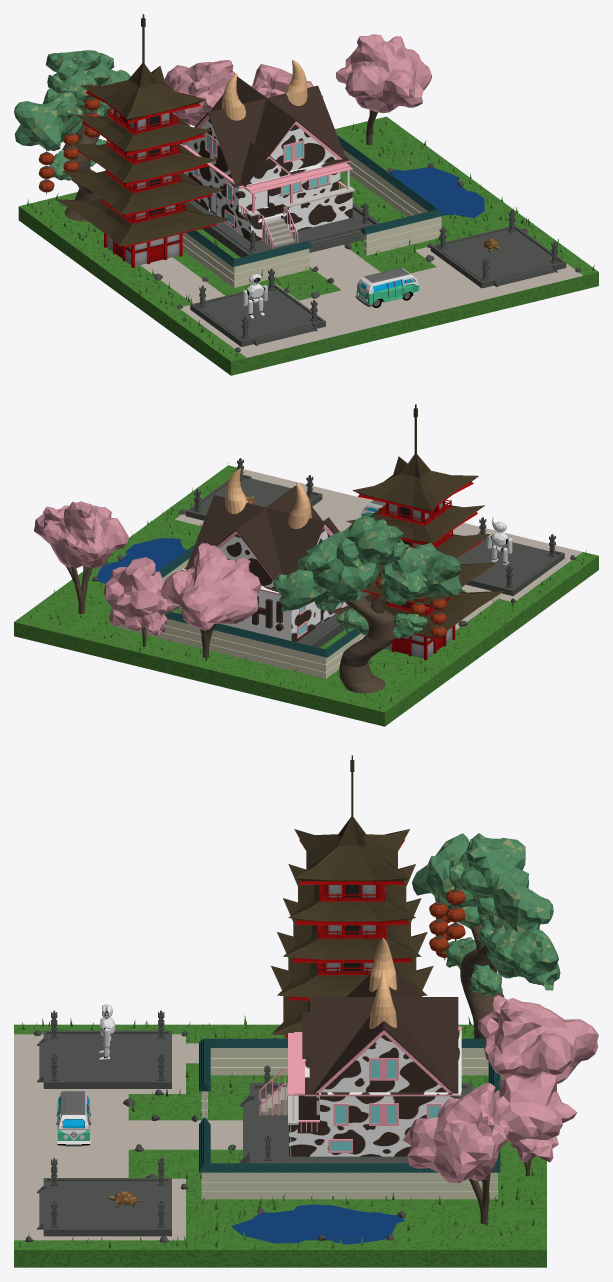
3 views of the same model, one above another, from view 1: azimuth 30°, elevation 25°; view 2: azimuth 150°, elevation 25°; view 3: azimuth 270°, elevation 25° (orthographic). The views are drawn at different scales.
Visible parts, largest first — view 1: Cube.005, Cube.1242, VEHICLES_VAN, OBJRANDOM_PLATZEEBOT; view 2: Cube.005, Cube.1242, OBJRANDOM_PLATZEEBOT; view 3: Cube.005, Cube.1242, VEHICLES_VAN.
Boxes of the visible parts, x1=… form: Cube.005: x1=14, y1=14, x2=598, y2=375; Cube.1242: x1=179, y1=59, x2=355, y2=248; VEHICLES_VAN: x1=355, y1=268, x2=420, y2=307; OBJRANDOM_PLATZEEBOT: x1=243, y1=269, x2=267, y2=318; Cube.005: x1=14, y1=404, x2=598, y2=726; Cube.1242: x1=181, y1=468, x2=347, y2=642; OBJRANDOM_PLATZEEBOT: x1=487, y1=517, x2=512, y2=565; Cube.005: x1=14, y1=755, x2=598, y2=1267; Cube.1242: x1=259, y1=938, x2=461, y2=1156; VEHICLES_VAN: x1=56, y1=1091, x2=91, y2=1146.
Bounding box in the file's own units: 4528 × 2706 × 4389.
46 materials, 5 textured.
